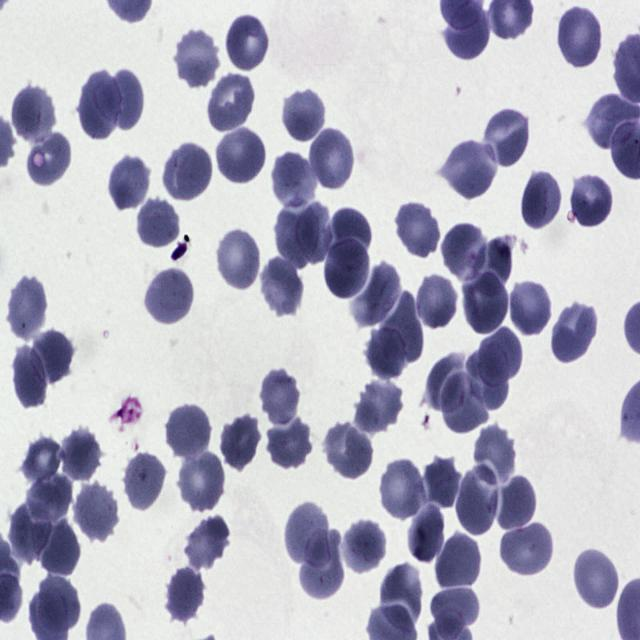red blood cell: (442, 140, 500, 200), (297, 530, 344, 602), (308, 126, 357, 194), (353, 261, 401, 330), (383, 292, 427, 366), (380, 455, 427, 524), (462, 270, 510, 337), (78, 71, 122, 142), (456, 465, 500, 536), (556, 5, 604, 70), (392, 199, 442, 261), (222, 12, 272, 74), (472, 424, 518, 491), (259, 254, 305, 320), (574, 546, 620, 612), (285, 501, 330, 568), (72, 484, 122, 544), (434, 532, 484, 592), (216, 127, 266, 186), (325, 421, 372, 483), (477, 327, 524, 389), (440, 373, 489, 432), (464, 345, 509, 409), (499, 521, 553, 574), (173, 29, 220, 89), (179, 447, 223, 511), (9, 499, 51, 566), (163, 143, 212, 200), (6, 274, 48, 340), (425, 355, 470, 416), (216, 228, 260, 290), (324, 240, 370, 299), (96, 69, 142, 128), (470, 236, 516, 295), (381, 564, 422, 630), (121, 453, 166, 513), (440, 221, 486, 279), (266, 416, 314, 471), (32, 326, 76, 386), (146, 268, 194, 323), (220, 412, 263, 473), (508, 280, 554, 337), (490, 473, 536, 530), (484, 110, 530, 167), (277, 203, 316, 270), (107, 154, 152, 212), (430, 586, 479, 639), (38, 518, 81, 578), (568, 174, 614, 230), (207, 74, 253, 130), (414, 274, 459, 331), (521, 169, 563, 230), (260, 366, 302, 427), (37, 576, 81, 634), (58, 428, 104, 483), (272, 151, 316, 208), (22, 434, 65, 492), (164, 407, 211, 460), (444, 7, 492, 58), (136, 197, 182, 250), (165, 566, 207, 624), (330, 208, 375, 262), (365, 325, 409, 380), (552, 306, 595, 362), (12, 86, 54, 143), (406, 503, 444, 566), (342, 517, 387, 569), (26, 133, 70, 186), (184, 517, 229, 568), (355, 383, 403, 429), (296, 200, 331, 263), (423, 456, 462, 510), (13, 347, 47, 408), (284, 92, 324, 142), (28, 478, 72, 519)
